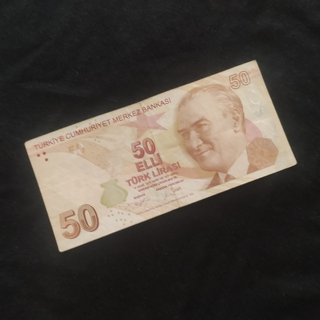50TLFront: (24, 59, 298, 251)
